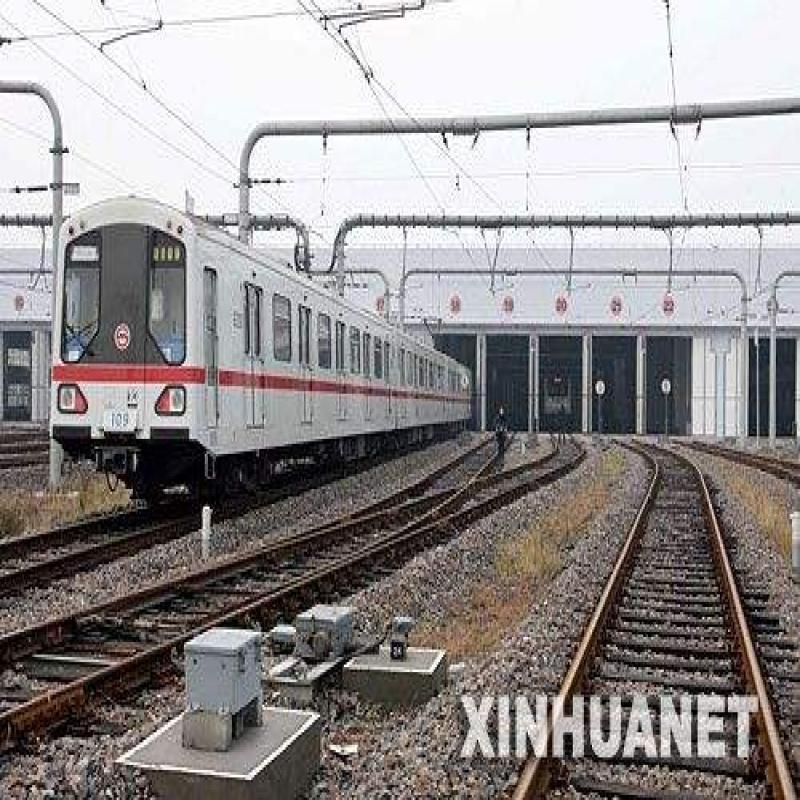train: (52, 194, 476, 513)
